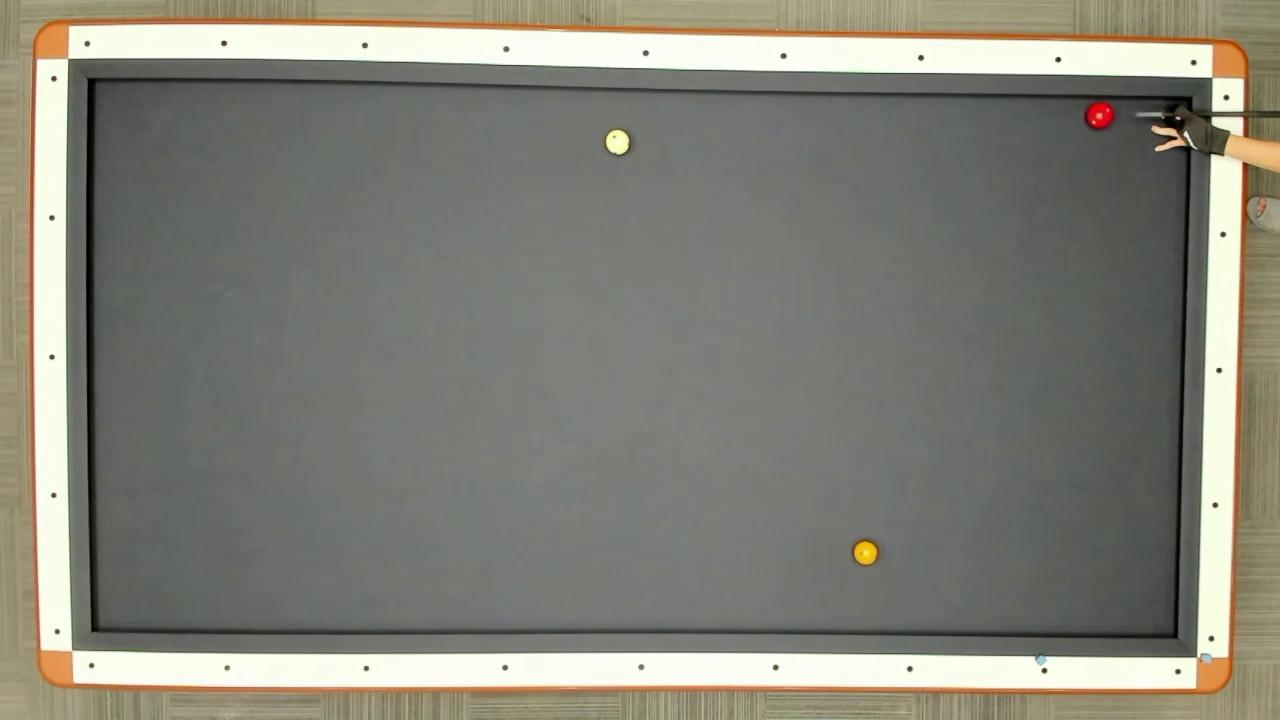Red: (1084, 100, 1116, 134)
White: (602, 126, 636, 160)
Yellow: (850, 536, 882, 570)
